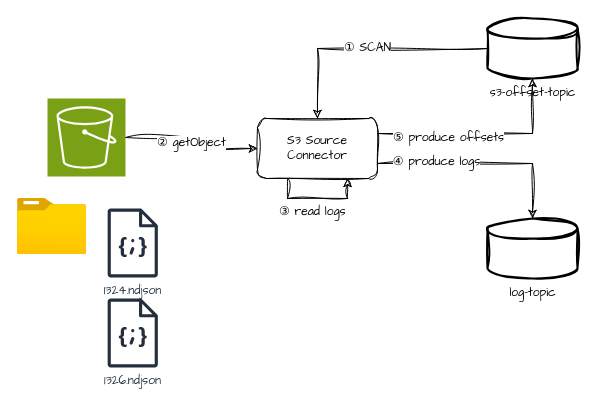
Some shapes in this 604 by 405 pixel diagram are drawn without their labels. Each missing label, with the centre of its shape:
"AWS S3" goes at point 86,137.
"yyyy/mm/dd" goes at point 51,226.
